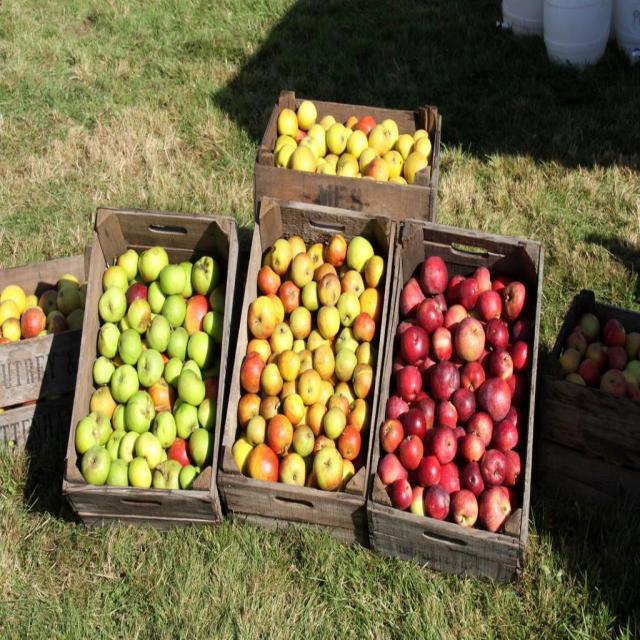Apple pie: (376, 254, 530, 532), (228, 237, 386, 495), (73, 249, 223, 491), (274, 100, 433, 184), (0, 280, 89, 407), (561, 309, 640, 407), (0, 272, 88, 342), (453, 487, 479, 527)
